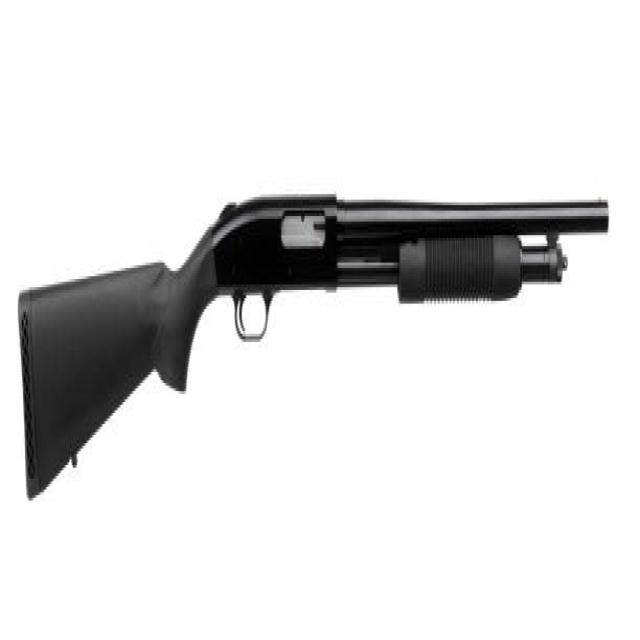rifle: (16, 184, 613, 509)
